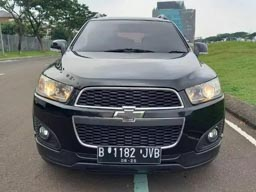plat: (96, 146, 160, 157)
